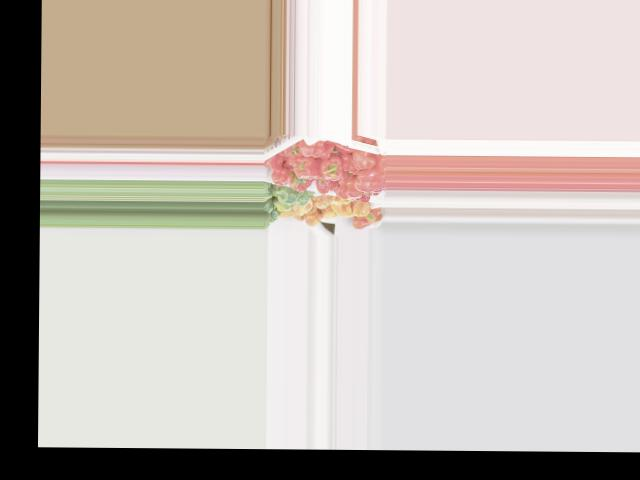bell_pepper: (298, 137, 334, 158)
